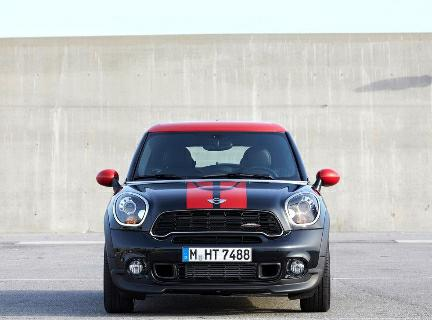MINI-JCWPACEMAN: (94, 115, 337, 298)
